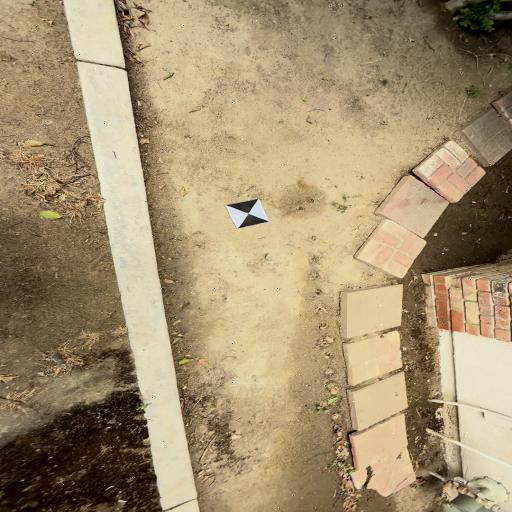target: (225, 199, 271, 229)
